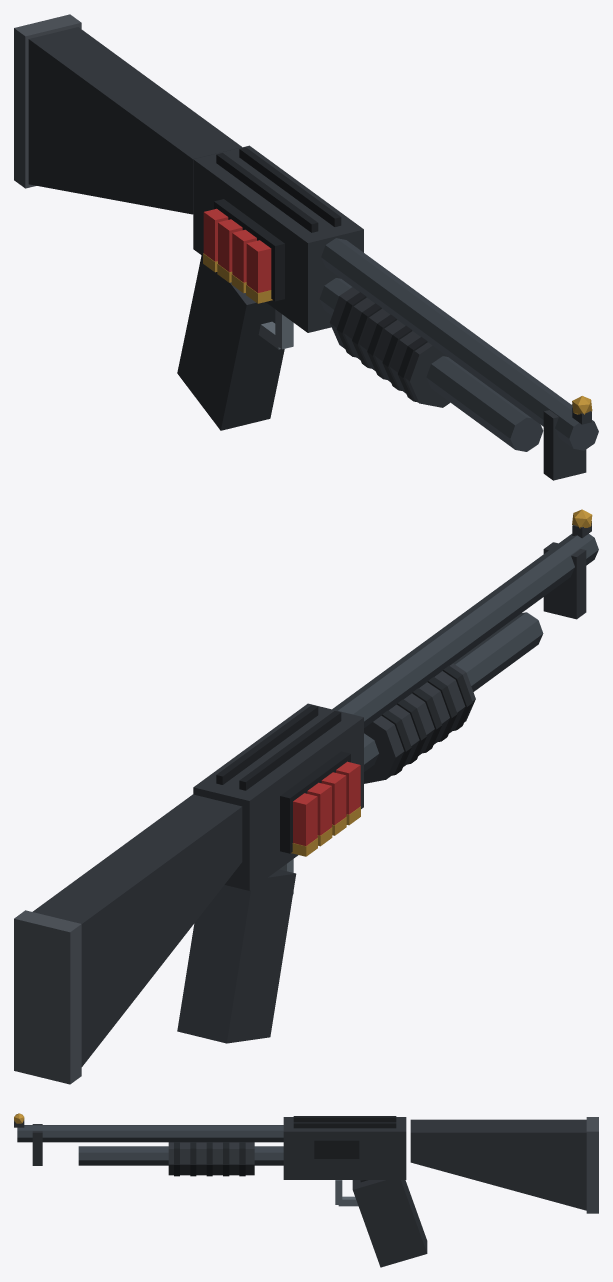
Rendered from wpn_mossberg.fbx.
3 renders of one model, top to bottom at view 1: azimuth 30°, elevation 25°; view 2: azimuth 150°, elevation 25°; view 3: azimuth 270°, elevation 25°, orthographic. The views are drawn at different scales.
Visible parts, largest first — view 1: wpn_mossberg; view 2: wpn_mossberg; view 3: wpn_mossberg.
Boxes of the visible parts, x1,y1,x2,y2 form: wpn_mossberg: [14, 14, 598, 480]; wpn_mossberg: [14, 509, 598, 1084]; wpn_mossberg: [14, 1113, 598, 1267].
Bounding box in the file's own units: 26.1 × 79.63 × 286.
